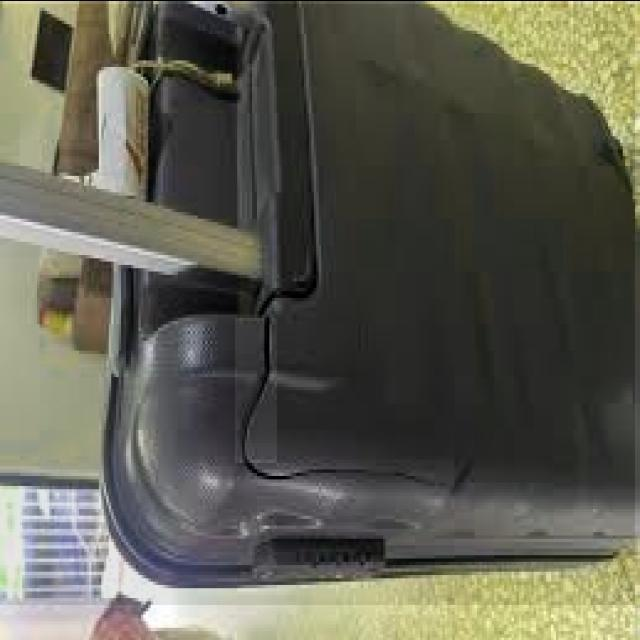Damage-bag: (231, 304, 474, 491), (579, 129, 629, 189)
